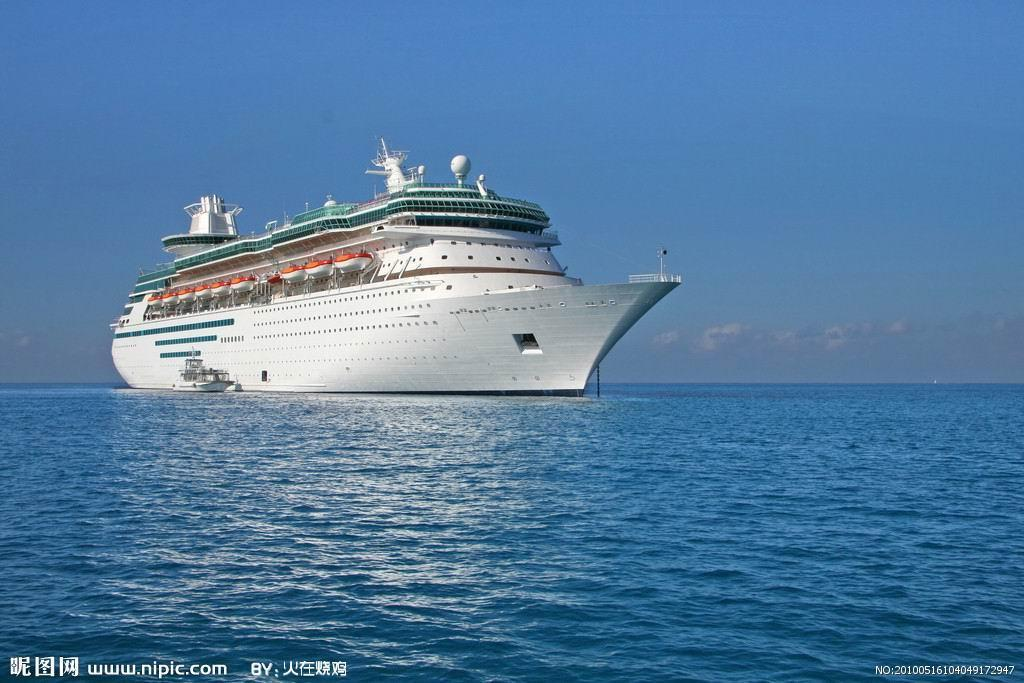youlun: (99, 140, 691, 396)
